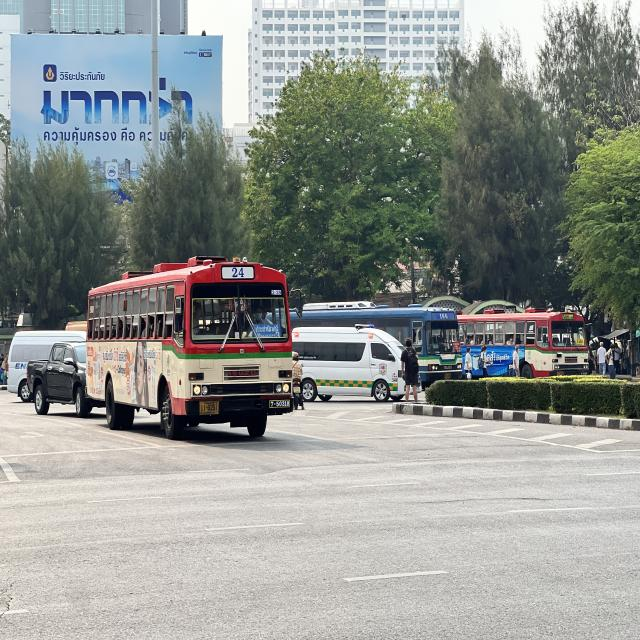BMTA-bus: (85, 258, 300, 441), (459, 303, 596, 382)
Bus-Line-Number: (223, 265, 255, 279)
Destination-Sign-Normal: (253, 324, 282, 338)
